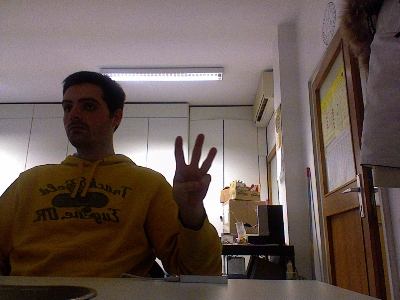三分: (171, 132, 216, 209)
